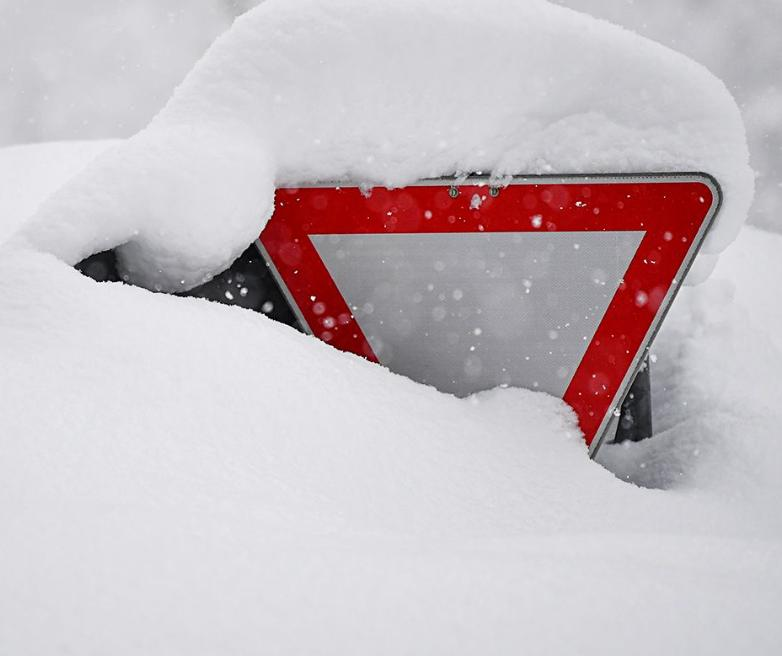obstructed_road_sign: (257, 175, 720, 458)
